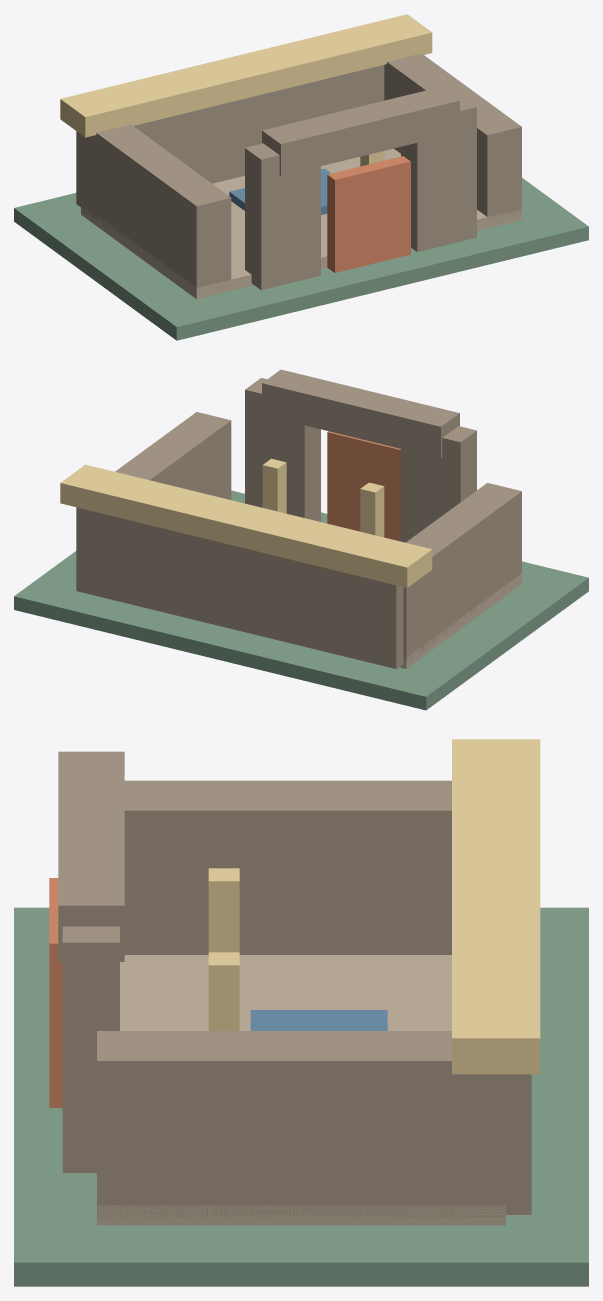
Rendered from shaniwar-wada.gltf.
The picture shows the model from 3 angles, top to bottom: view 1: azimuth 30°, elevation 25°; view 2: azimuth 150°, elevation 25°; view 3: azimuth 270°, elevation 25°; orthographic projection. The views are drawn at different scales.
Visible parts, largest first — view 1: garden-base, roof-band, left-range, rear-range, front-gate-top, front-gate-left, wooden-door, front-gate-right, right-range, palace-floor, courtyard-water; view 2: rear-range, garden-base, roof-band, left-range, front-gate-top, front-gate-right, right-range, front-gate-left, wooden-door, palace-floor, lamp-left, lamp-right; view 3: right-range, garden-base, left-range, roof-band, palace-floor, front-gate-top, front-gate-right, rear-range, courtyard-water, wooden-door, lamp-left, lamp-right.
Boxes of the visible parts, box(x1,y1,x2,y2) form: garden-base: box(14, 178, 588, 340); roof-band: box(60, 14, 432, 137); left-range: box(81, 124, 231, 292); rear-range: box(76, 65, 384, 206); front-gate-top: box(262, 87, 459, 175); front-gate-left: box(245, 143, 320, 290); wooden-door: box(327, 156, 410, 272); front-gate-right: box(401, 95, 476, 251); right-range: box(384, 53, 521, 219); palace-floor: box(81, 148, 521, 299); courtyard-water: box(229, 168, 331, 214); rear-range: box(76, 507, 403, 668); garden-base: box(14, 490, 588, 710); roof-band: box(60, 464, 432, 587); left-range: box(403, 483, 521, 663); front-gate-top: box(262, 369, 459, 458); front-gate-right: box(245, 378, 320, 521); right-range: box(115, 412, 231, 499); front-gate-left: box(401, 426, 476, 542); wooden-door: box(327, 431, 400, 541); palace-floor: box(399, 573, 521, 668); lamp-left: box(360, 482, 384, 537); lamp-right: box(262, 458, 286, 513); right-range: box(97, 1031, 505, 1217); garden-base: box(14, 907, 588, 1286); left-range: box(124, 780, 451, 954); roof-band: box(452, 739, 540, 1074); palace-floor: box(97, 955, 505, 1225); front-gate-top: box(58, 751, 124, 961); front-gate-right: box(62, 926, 119, 1172); rear-range: box(506, 1074, 531, 1214); courtyard-water: box(250, 1010, 387, 1030); wooden-door: box(49, 878, 62, 1107); lamp-left: box(208, 868, 239, 952); lamp-right: box(208, 952, 239, 1030).
Size of the model in its own units: 3.8 by 1.4 by 2.6.
